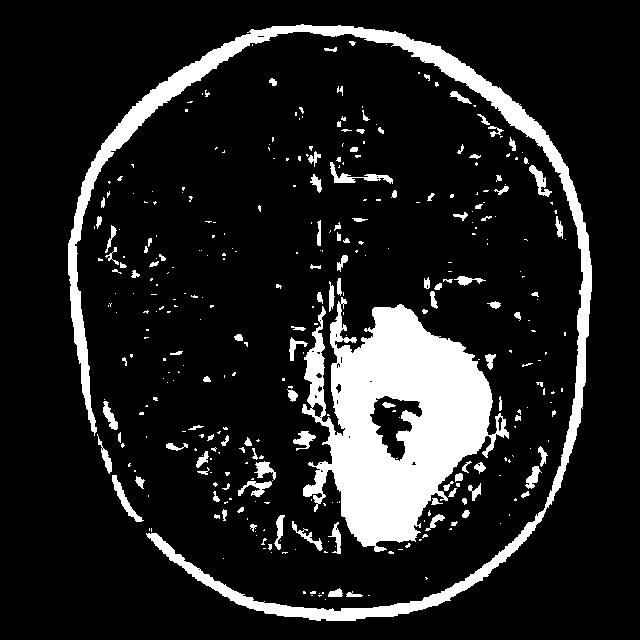Brain-Tumor: (320, 286, 511, 563)
